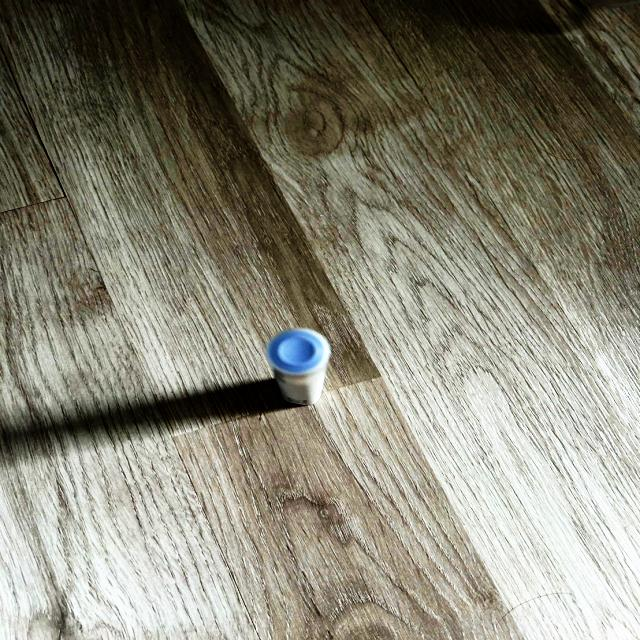HighLight Pen: (271, 341, 330, 408)
